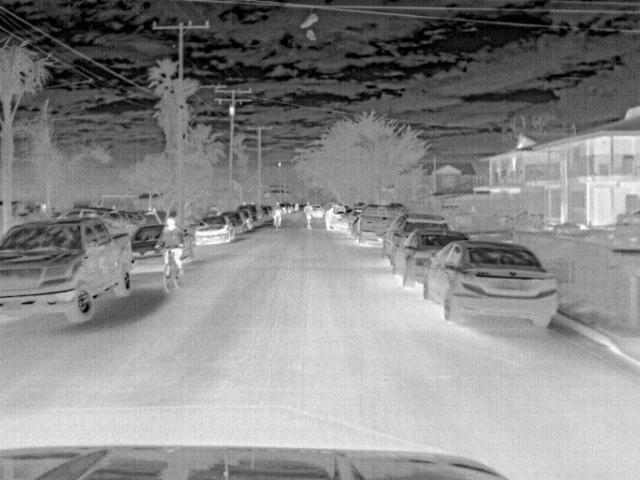car: (1, 214, 132, 329), (418, 239, 561, 330), (390, 231, 466, 286), (381, 215, 448, 256), (130, 222, 168, 272), (358, 203, 400, 243), (192, 212, 235, 244), (330, 202, 362, 232), (240, 203, 266, 228), (58, 206, 107, 218), (220, 212, 247, 232), (239, 209, 254, 230), (312, 204, 324, 216)
person: (158, 218, 187, 278), (269, 204, 283, 230), (301, 200, 314, 228)
